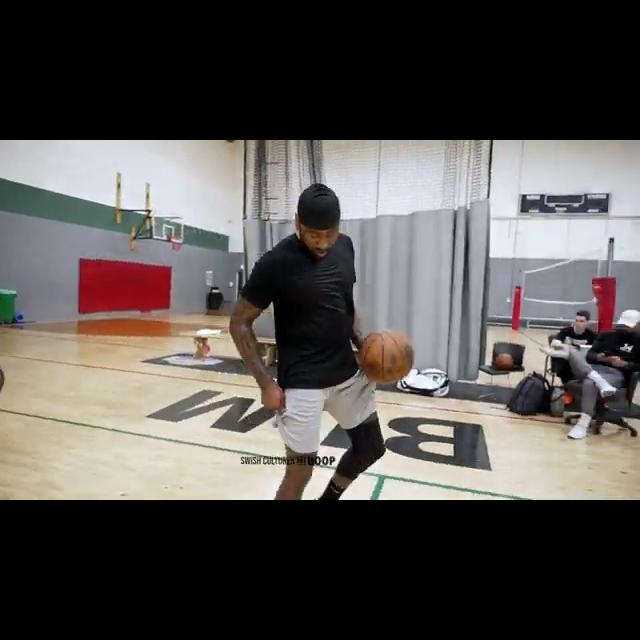basketball: (358, 329, 415, 385), (496, 351, 513, 368)
hoop: (226, 184, 388, 499), (169, 233, 184, 250)
person: (565, 310, 640, 439), (547, 311, 595, 385)
